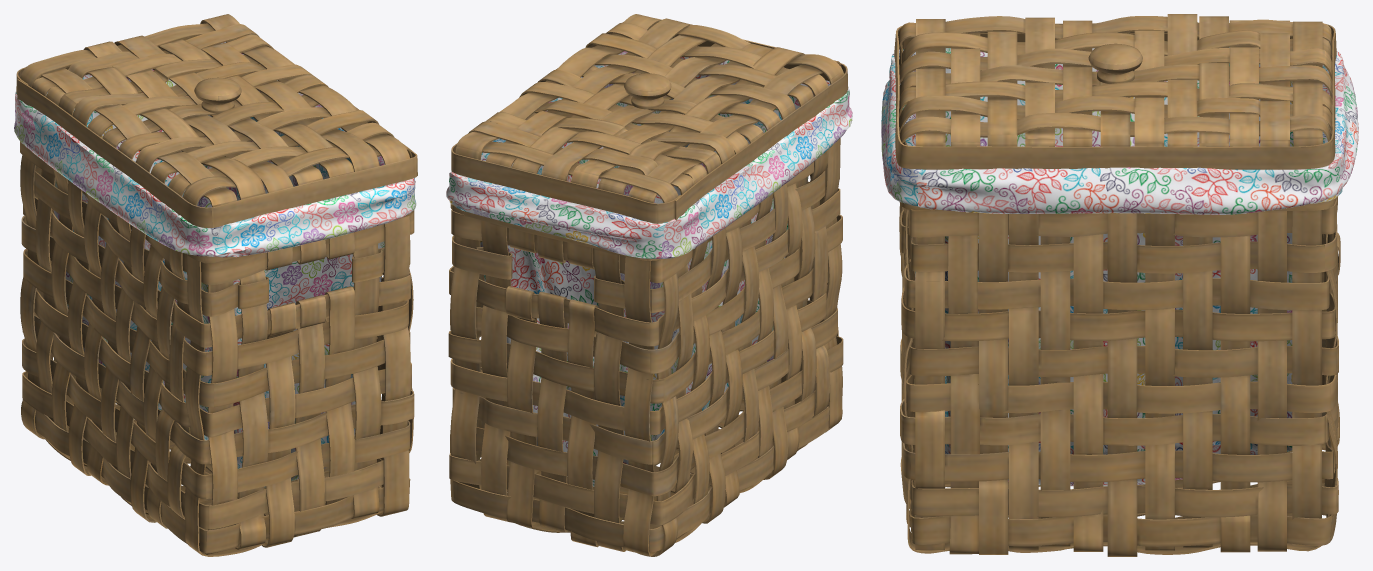
Rendered from obj_cesto_130ad8.glb.
The picture shows the model from 3 angles, left to right: view 1: azimuth 30°, elevation 25°; view 2: azimuth 150°, elevation 25°; view 3: azimuth 270°, elevation 25°; orthographic projection. The views are drawn at different scales.
Parts seen in each view (by area): view 1: obj_cesto_130ad8; view 2: obj_cesto_130ad8; view 3: obj_cesto_130ad8.
Boxes of the visible parts, box(x1,y1,x2,y2) form: obj_cesto_130ad8: box(14, 14, 417, 556); obj_cesto_130ad8: box(446, 14, 852, 556); obj_cesto_130ad8: box(881, 14, 1358, 556).
Size of the model in its own units: 0.4021 by 0.6 by 0.5751.
Materials: 2 (2 with a texture image).
